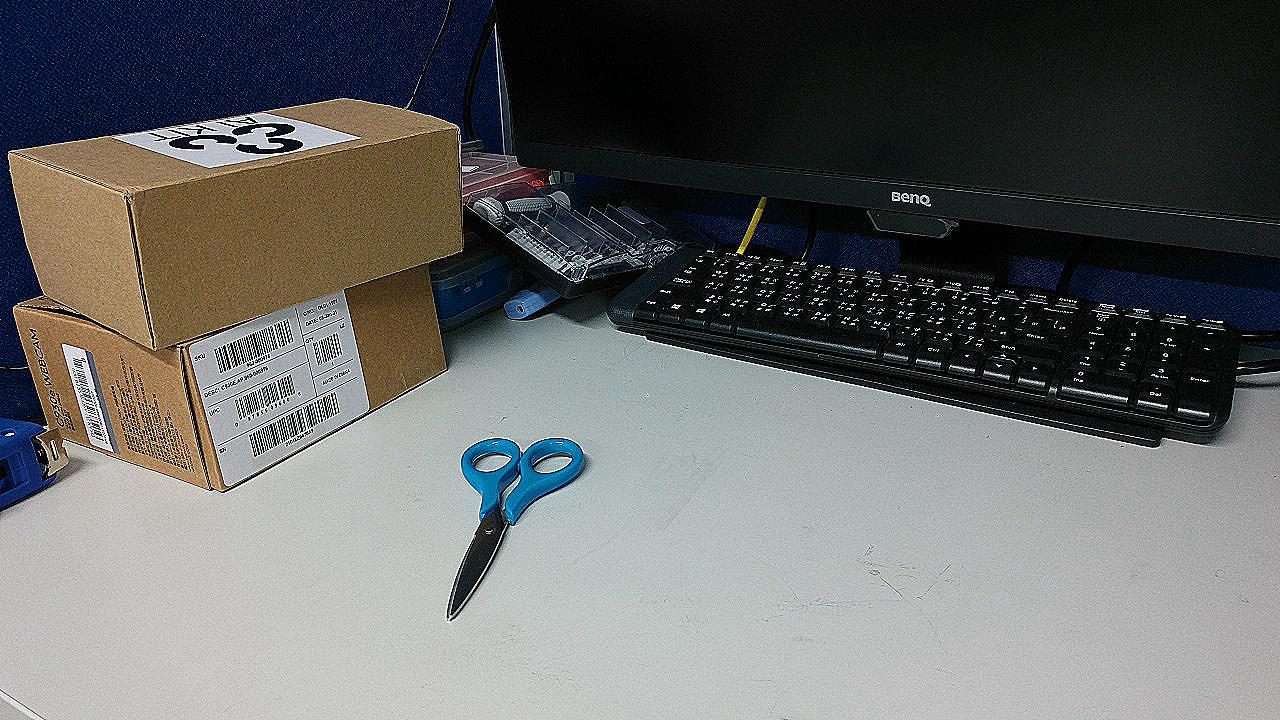columnar: (551, 288, 682, 584)
